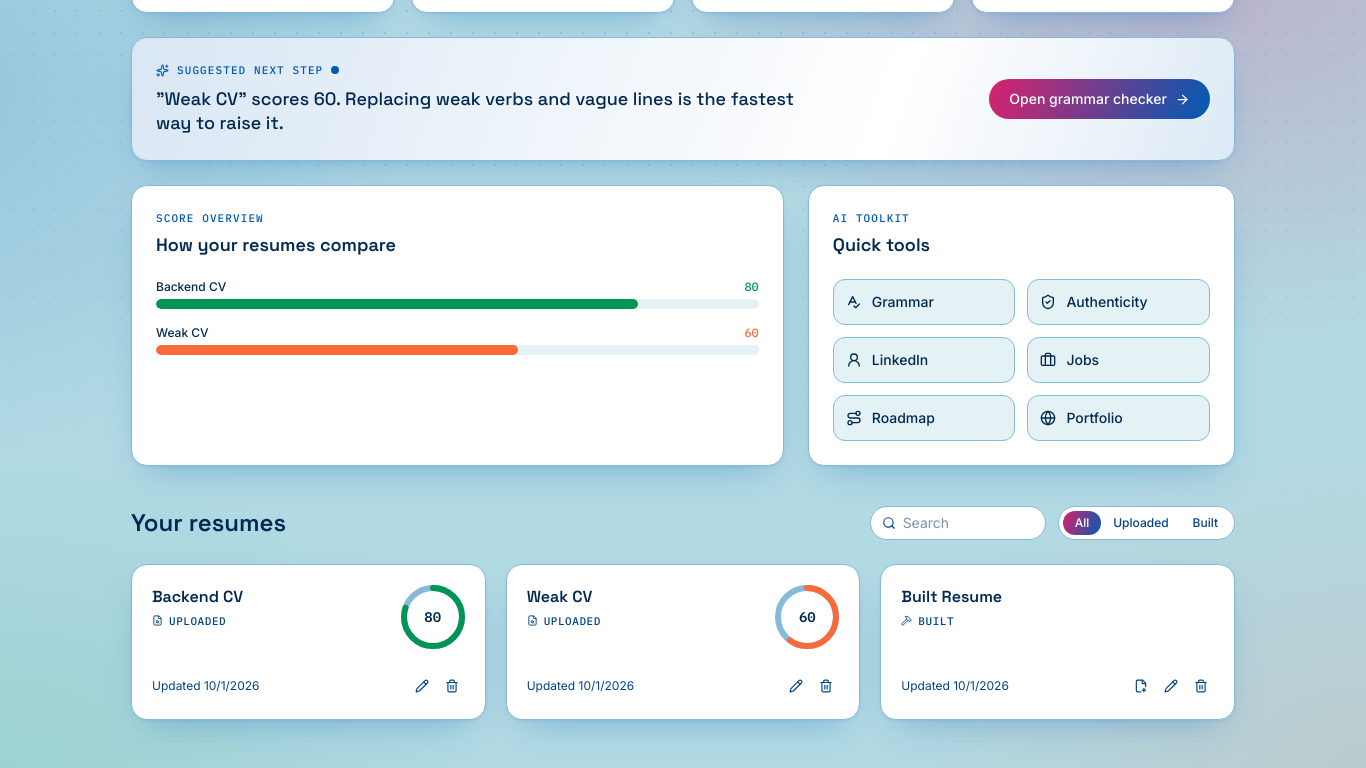
Test: Dashboard › shows a 'no match' state when the search finds nothing
The width and height of the screenshot is (1366, 768).
(page scrolled)
Type "zzz" into the field named "search resumes" at point(958, 522), box [870, 506, 1046, 540]
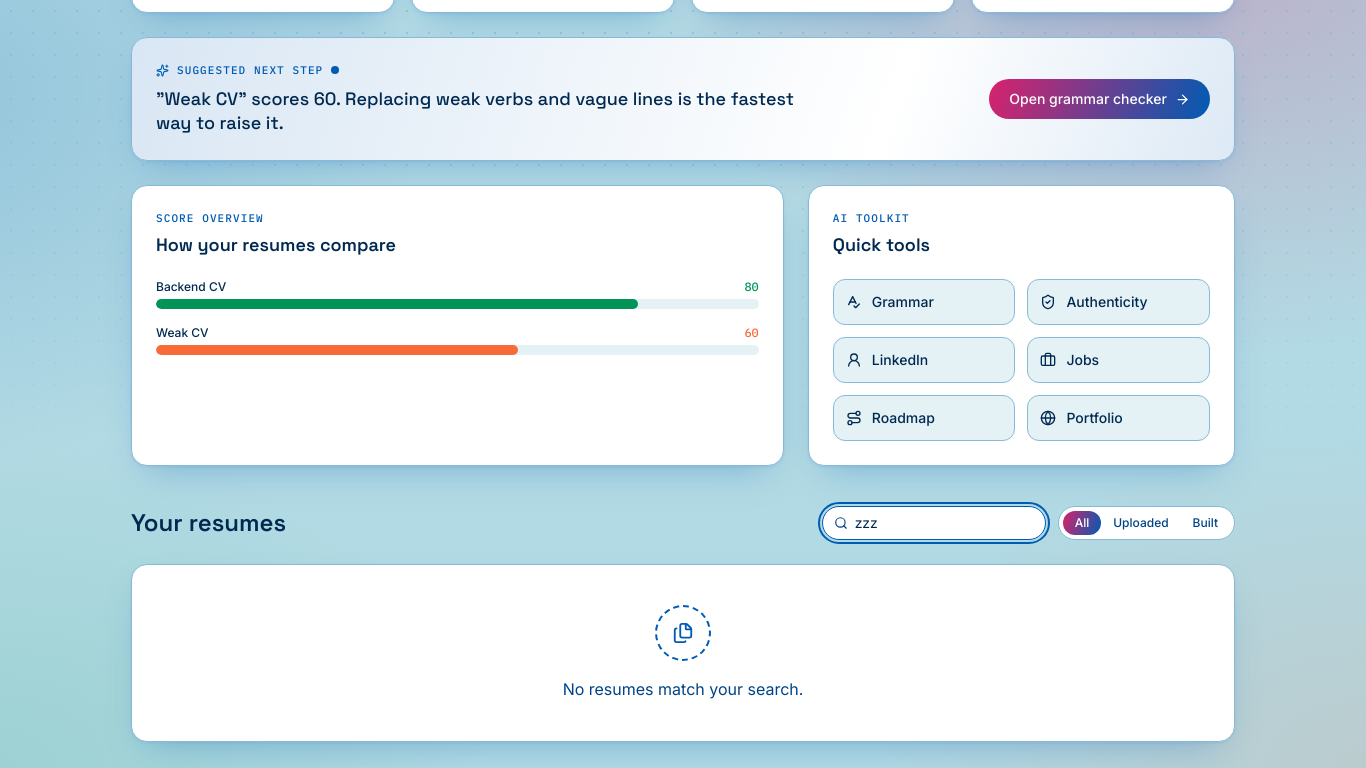
Expected: the text "No resumes match your search." is shown, [563, 678, 803, 698]
